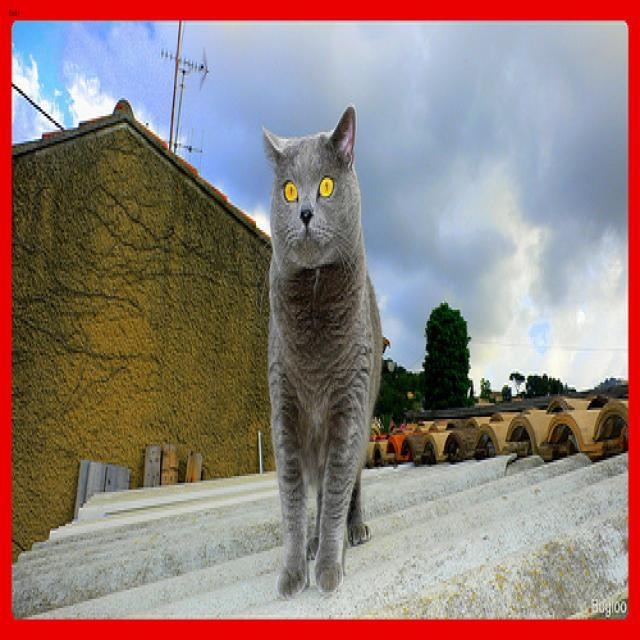British_Shorthair: (261, 103, 353, 260)
